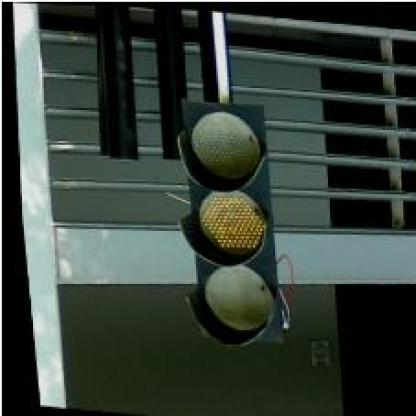yellow: (166, 94, 288, 342)
